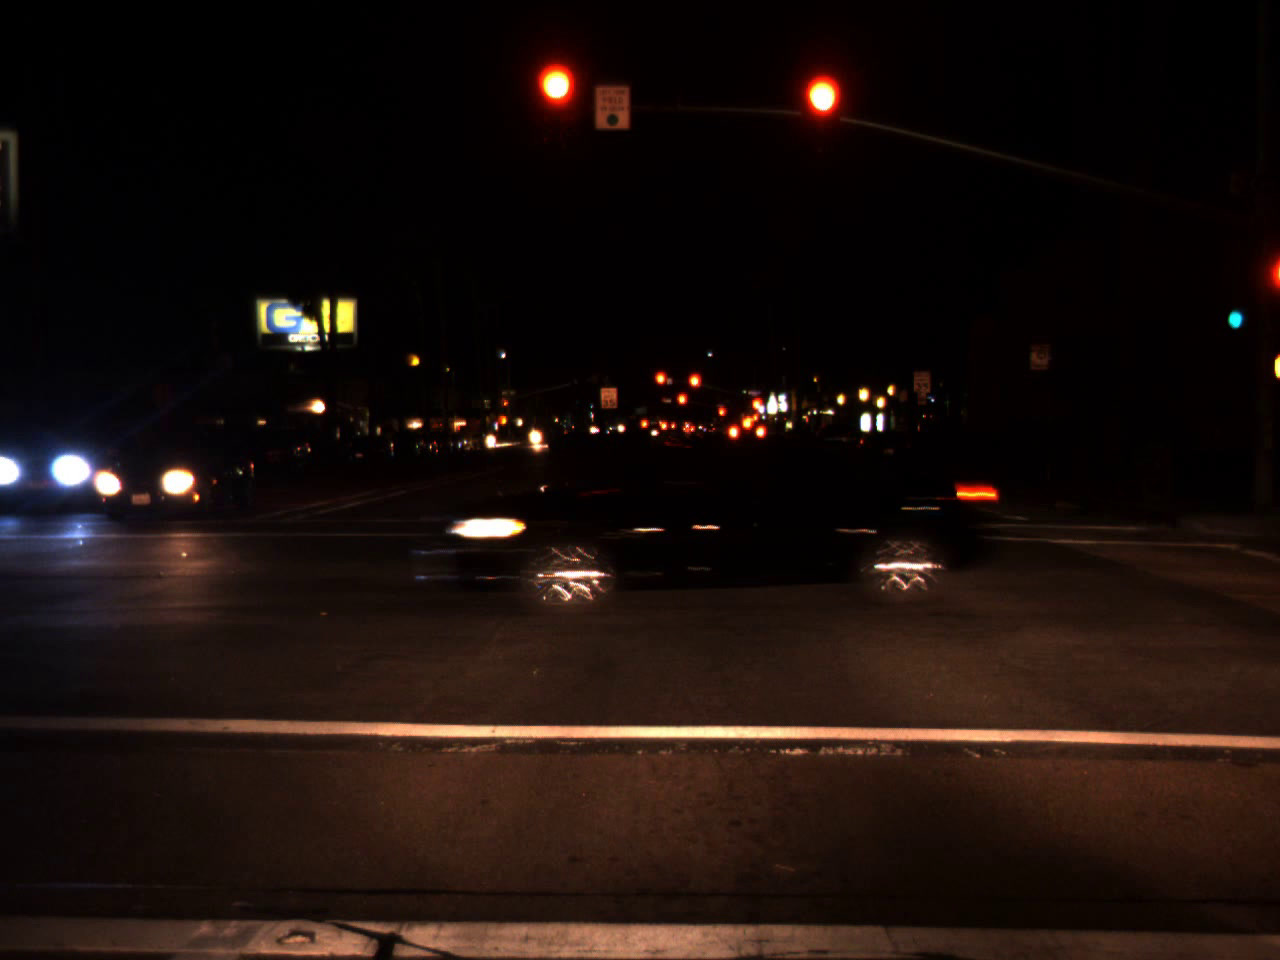stop: (537, 65, 577, 143), (801, 76, 841, 154), (686, 371, 702, 403), (653, 370, 666, 399), (676, 392, 688, 416), (749, 396, 764, 414), (717, 406, 727, 427)
